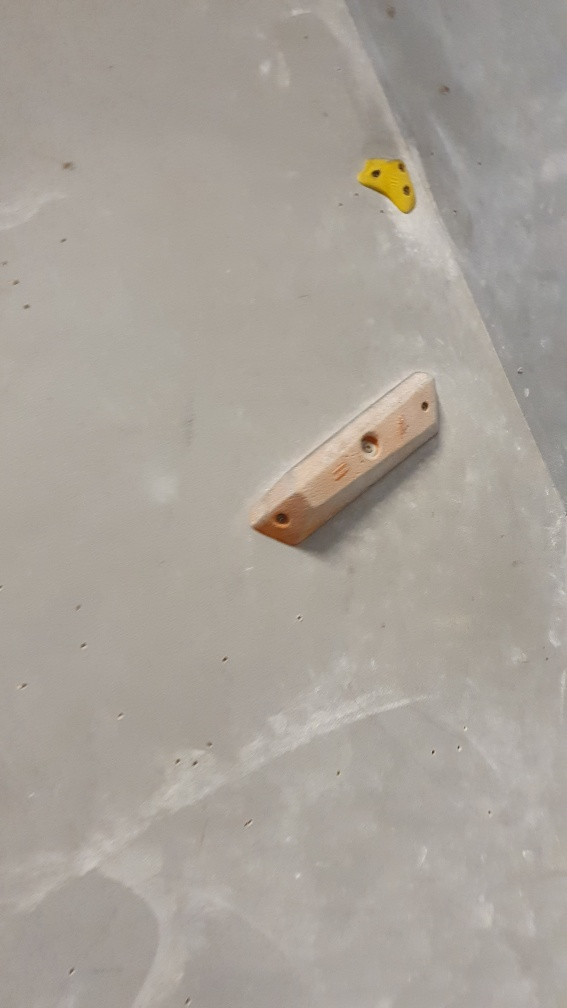Pinch: (247, 366, 442, 551)
